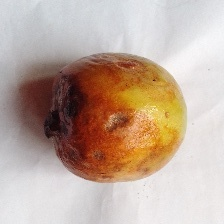guava: (2, 31, 191, 190)
